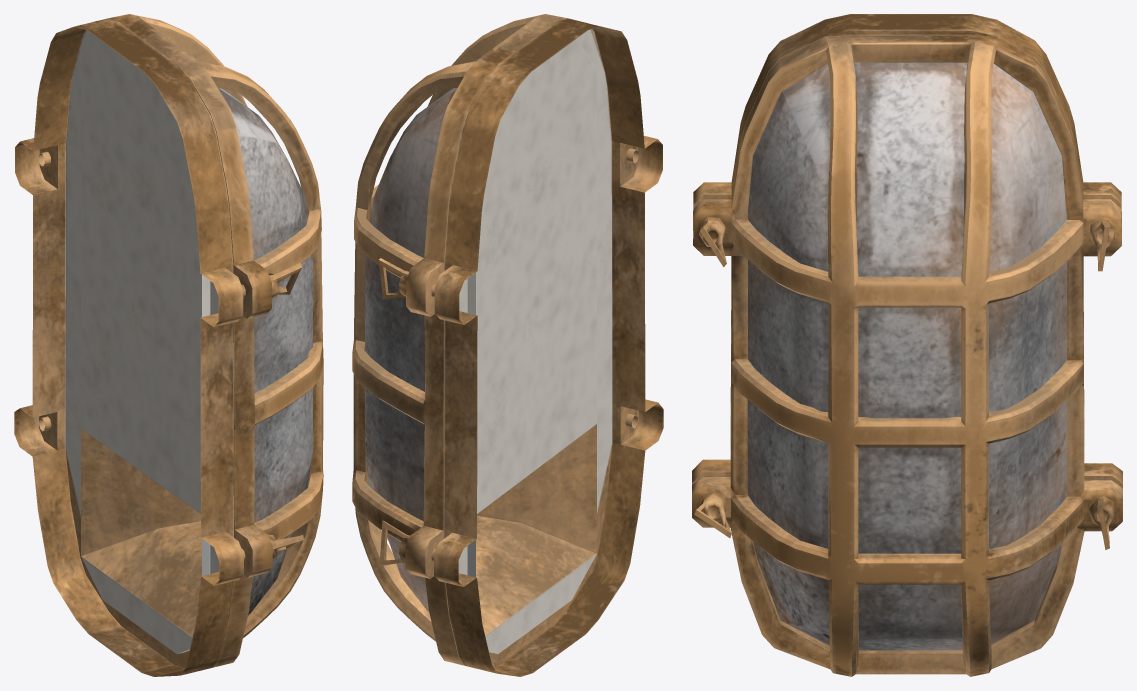
Rendered from lus.gltf.
The picture shows the model from 3 angles, left to right: view 1: azimuth 30°, elevation 25°; view 2: azimuth 150°, elevation 25°; view 3: azimuth 270°, elevation 25°; orthographic projection. The views are drawn at different scales.
Parts seen in each view (by area): view 1: LuzT2; view 2: LuzT2; view 3: LuzT2.
Part boxes in pixels (<box>): LuzT2: <box>14,14,323,676</box>; LuzT2: <box>352,14,663,676</box>; LuzT2: <box>692,14,1122,676</box>.
Bounding box in the file's own units: 0.7509 × 2.43 × 1.5.
